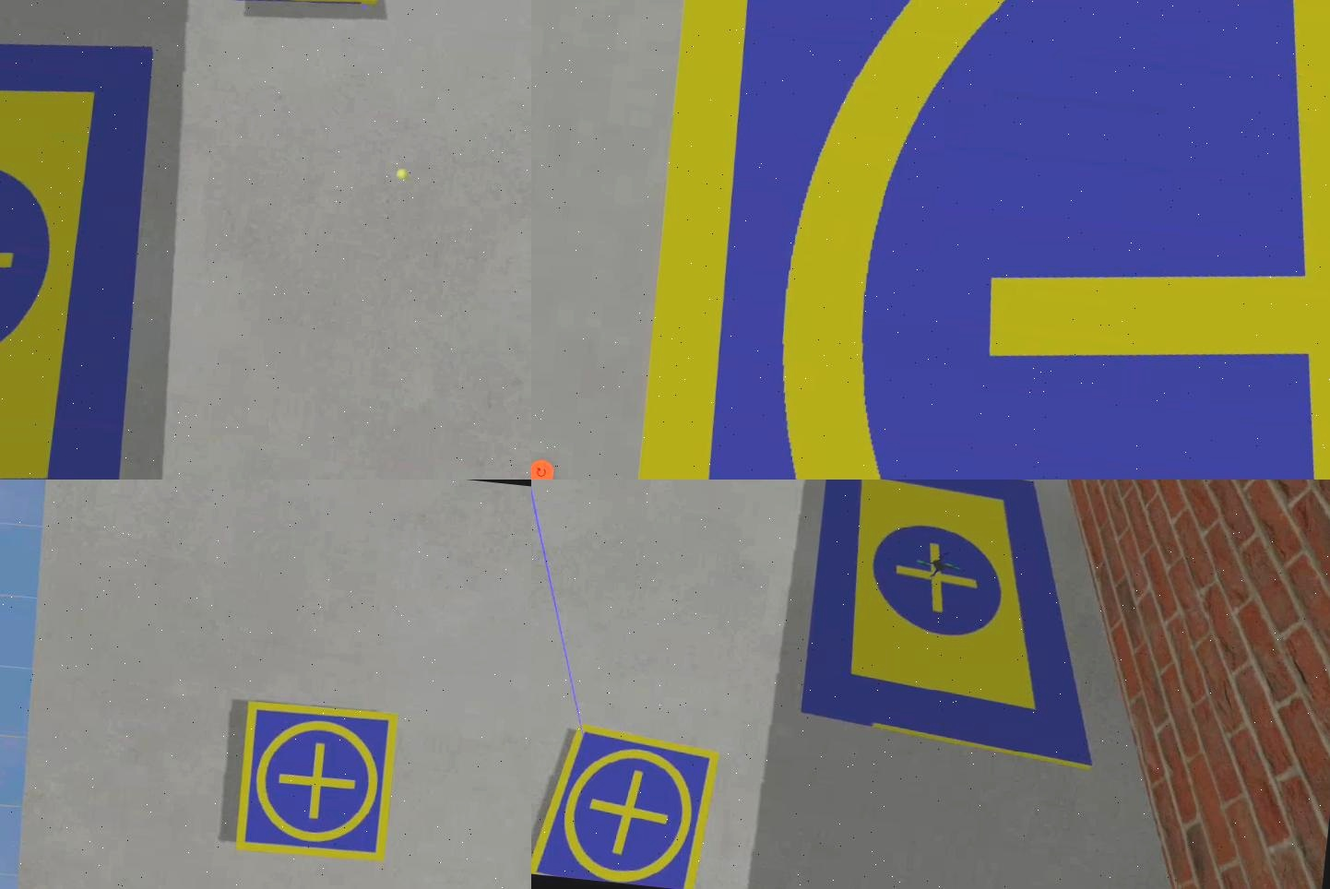large_base: (795, 480, 1126, 772), (1, 1, 175, 480)
small_base: (630, 1, 1330, 480), (532, 724, 721, 889), (232, 698, 405, 869)
